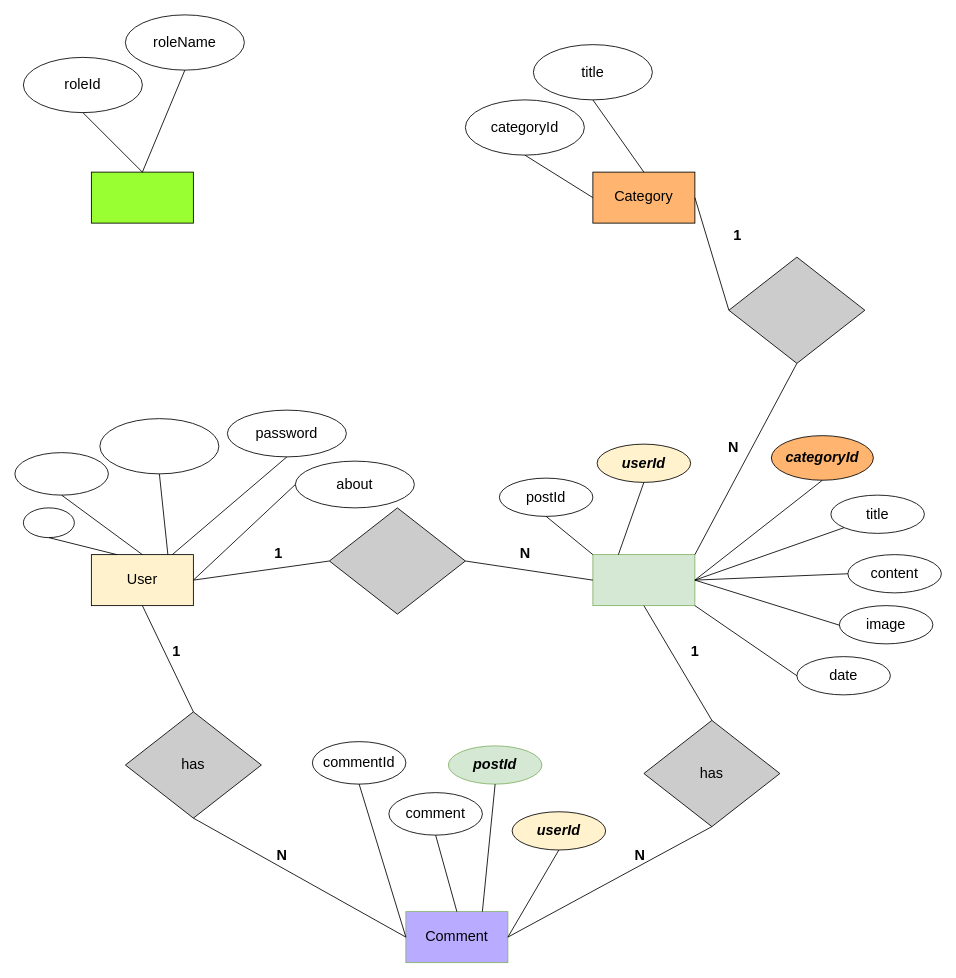
Some shapes in this 956 by 978 pixel diagram are drawn without their labels. Here are the shapes that lost their labels. From the top down, the box of each, then its label:
(91, 171, 193, 223): Role
(728, 256, 865, 363): contain
(99, 418, 219, 474): userEmail (username)
(14, 452, 108, 495): name
(23, 507, 74, 538): Id
(329, 507, 465, 614): Manage
(592, 554, 695, 606): Post
